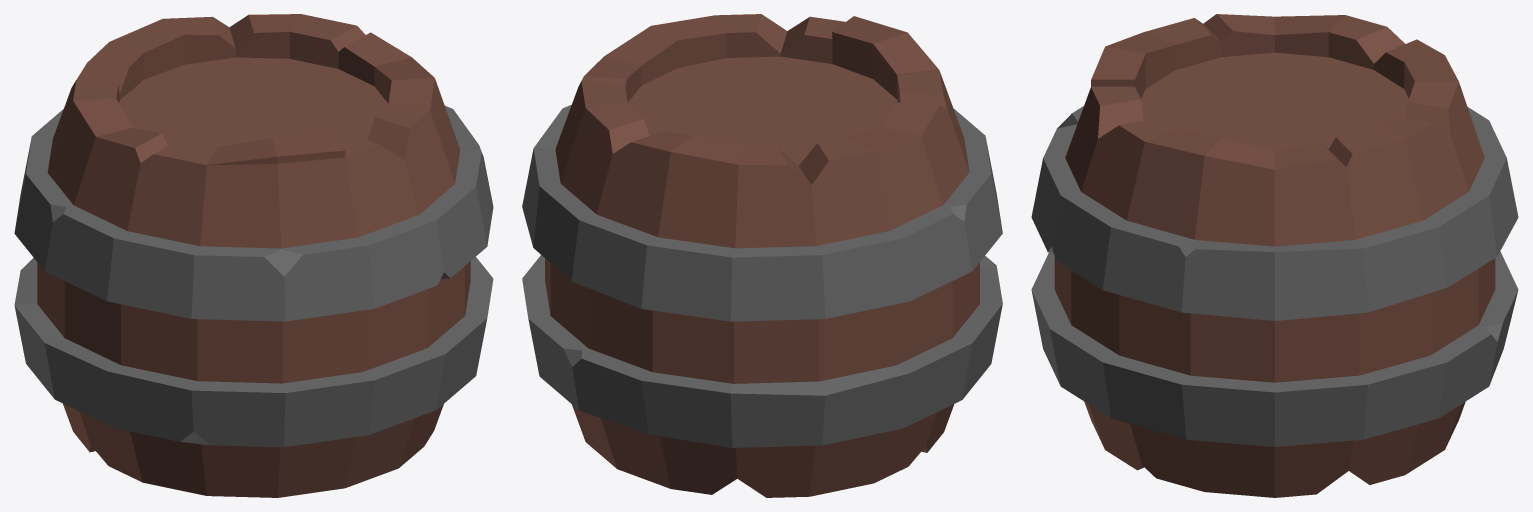
File: barrel.fbx
The picture shows the model from 3 angles, left to right: view 1: azimuth 30°, elevation 25°; view 2: azimuth 150°, elevation 25°; view 3: azimuth 270°, elevation 25°; orthographic projection.
Parts seen in each view (by area): view 1: Cylinder; view 2: Cylinder; view 3: Cylinder.
Part boxes in pixels (x1,y1,x2,y2): Cylinder: (14,14,493,497); Cylinder: (522,14,1002,497); Cylinder: (1031,14,1518,497).
Size of the model in its own units: 265 by 206 by 265.
